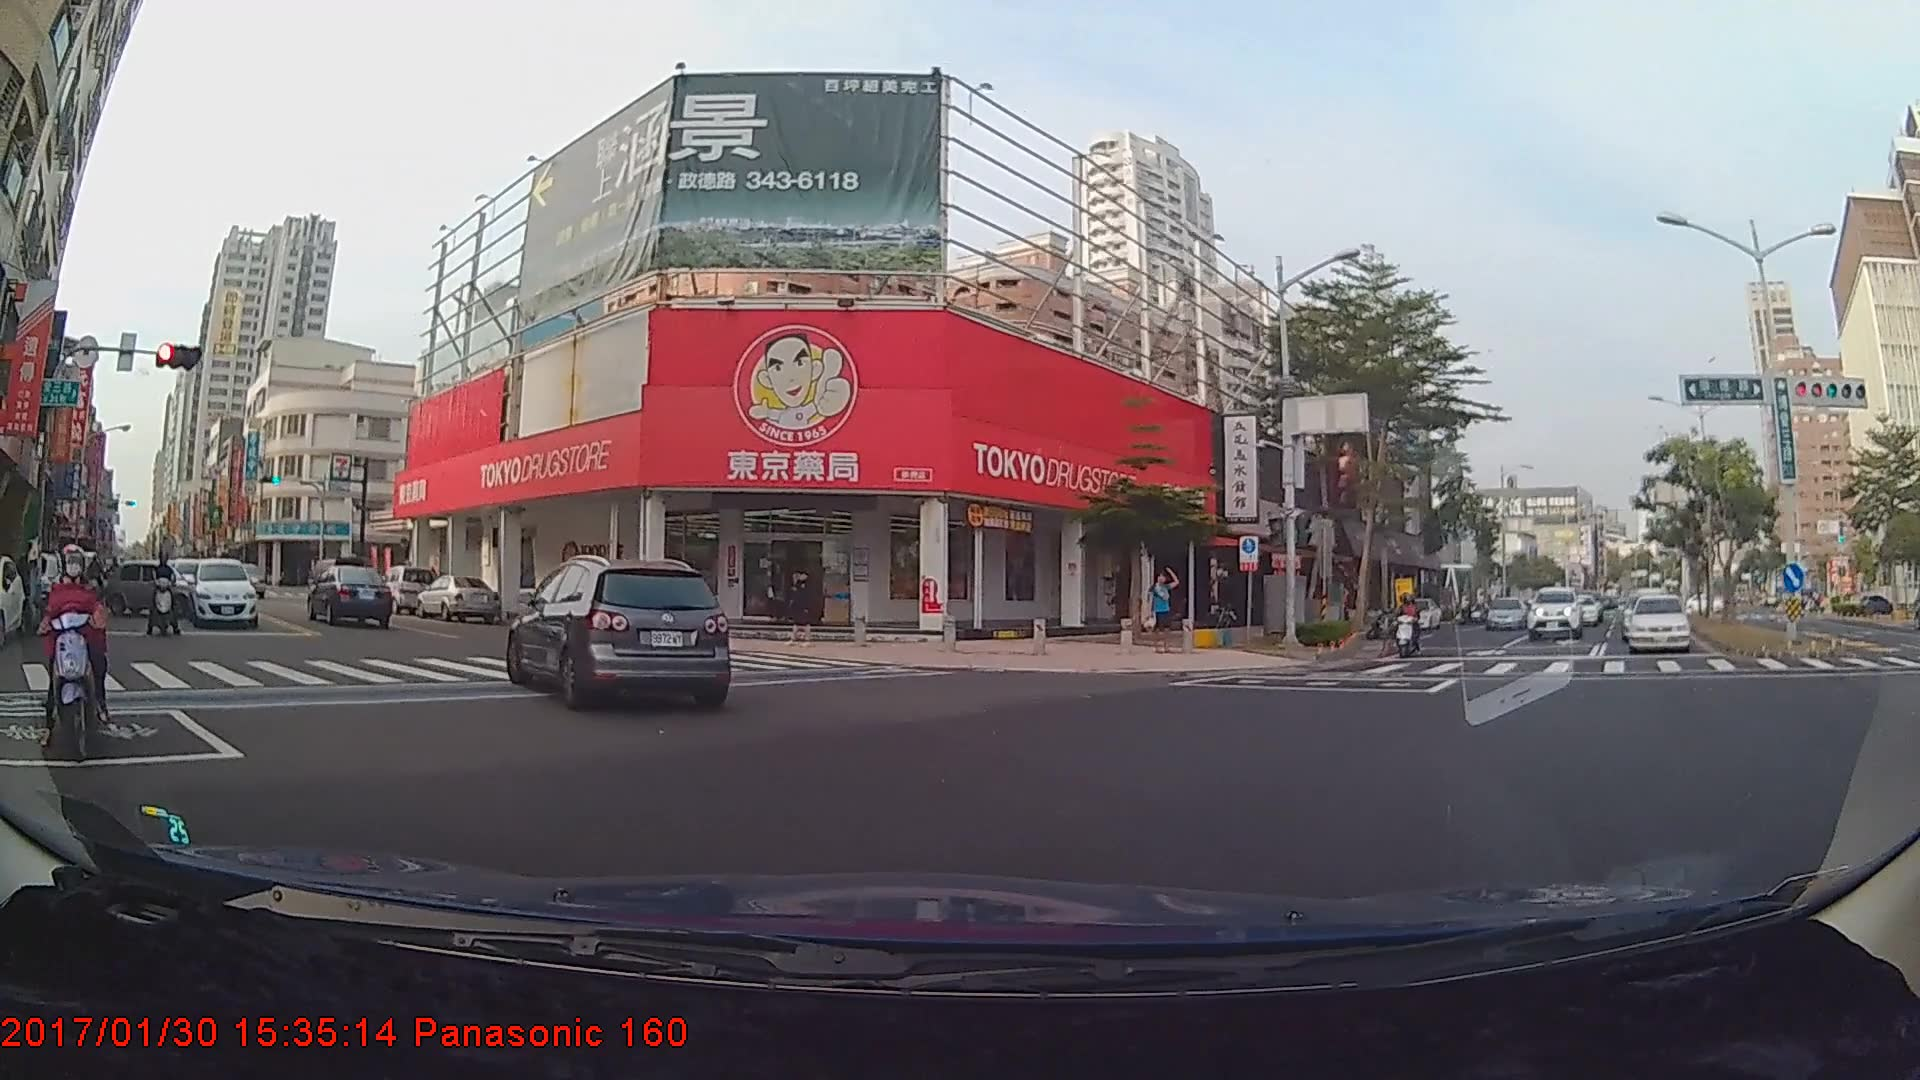pedestrian: (787, 565, 827, 654), (1146, 566, 1181, 653)
rider: (37, 543, 119, 765), (145, 551, 186, 642), (1391, 588, 1429, 655)
vehicle: (513, 555, 728, 711), (305, 562, 394, 629), (185, 556, 258, 628), (106, 559, 197, 615), (414, 572, 501, 621), (1626, 592, 1690, 653), (375, 564, 439, 616), (1526, 585, 1582, 638), (1484, 596, 1527, 630), (1561, 593, 1597, 624)
